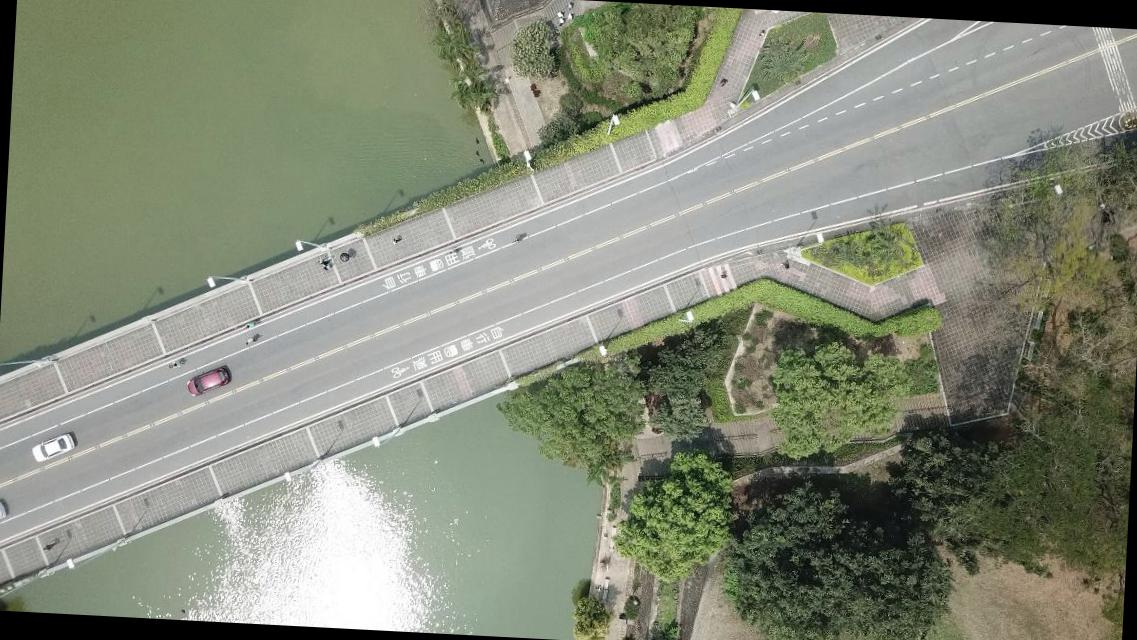vehicle: (186, 364, 232, 398), (29, 431, 76, 464), (0, 499, 7, 527)
